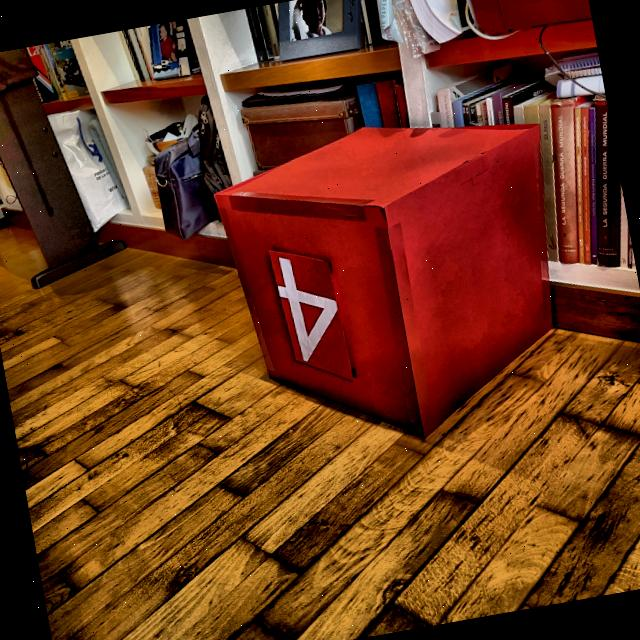four: (266, 248, 346, 366)
red box: (206, 99, 575, 466)
